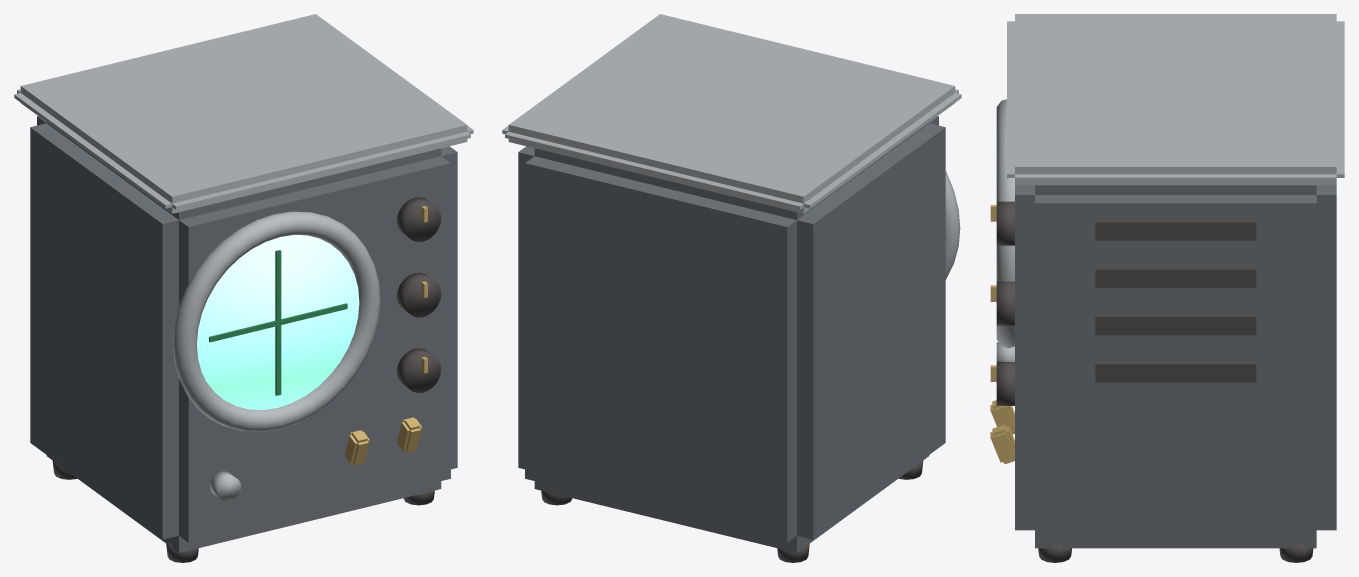
File: osc_scope.glb
3 views of the same model, side by side, from view 1: azimuth 30°, elevation 25°; view 2: azimuth 150°, elevation 25°; view 3: azimuth 270°, elevation 25° (orthographic). The views are drawn at different scales.
Parts seen in each view (by area): view 1: Body, TopPanel, Screen, ScreenBezel, Knob2, Knob0, Knob1, GridV, GridH, BNC, Switch1, Switch0; view 2: Body, TopPanel, ScreenBezel; view 3: Body, TopPanel, Vent3, Vent1, Vent0, Vent2, ScreenBezel, Knob0, Knob1, Knob2, Switch1, Switch0 (+2 smaller).
Boxes of the visible parts, x1,y1,x2,y2 form: Body: (30,116,457,552); TopPanel: (14,14,473,213); Screen: (197,235,359,409); ScreenBezel: (173,211,380,431); Knob2: (396,348,441,392); Knob0: (396,197,441,241); Knob1: (396,272,441,317); GridV: (275,250,281,395); GridH: (209,303,347,342); BNC: (210,471,240,501); Switch1: (397,417,422,452); Switch0: (345,430,369,465); Body: (518,116,945,552); TopPanel: (502,14,961,213); ScreenBezel: (945,171,960,279); Body: (1015,185,1336,548); TopPanel: (1007,14,1344,185); Vent3: (1095,219,1256,240); Vent1: (1095,314,1256,335); Vent0: (1095,362,1256,382); Vent2: (1095,267,1256,287); ScreenBezel: (996,99,1014,348); Knob0: (996,201,1014,245); Knob1: (996,281,1014,325); Knob2: (996,362,1014,405); Switch1: (990,424,1014,463); Switch0: (990,400,1014,434).
Bounding box in the file's own units: 0.94 × 1.11 × 0.8812.
